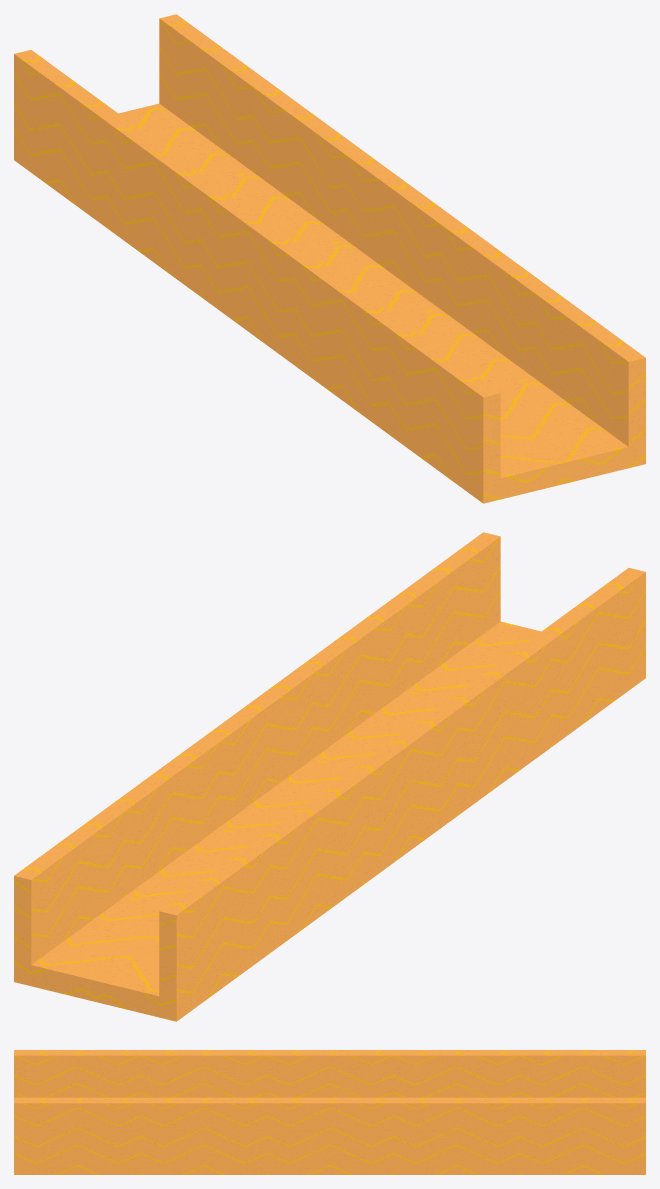
File: rampLonger.glb
3 views of the same model, one above another, from view 1: azimuth 30°, elevation 25°; view 2: azimuth 150°, elevation 25°; view 3: azimuth 270°, elevation 25° (orthographic). The views are drawn at different scales.
Parts seen in each view (by area): view 1: rampVeryLong; view 2: rampVeryLong; view 3: rampVeryLong.
Boxes of the visible parts, x1=… form: rampVeryLong: x1=14, y1=14, x2=645, y2=503; rampVeryLong: x1=14, y1=532, x2=645, y2=1021; rampVeryLong: x1=14, y1=1050, x2=645, y2=1174.
Size of the model in its own units: 0.5 by 0.3122 by 2.5.
1 material, 1 textured.
